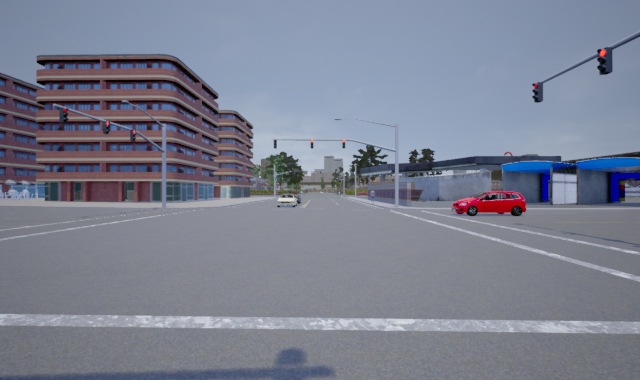traffic_light: (596, 46, 613, 76), (532, 82, 544, 104), (60, 107, 69, 125), (103, 118, 112, 133), (130, 126, 137, 144), (341, 138, 346, 151), (310, 138, 315, 150)
vehicle: (447, 191, 531, 216), (277, 194, 297, 209)
